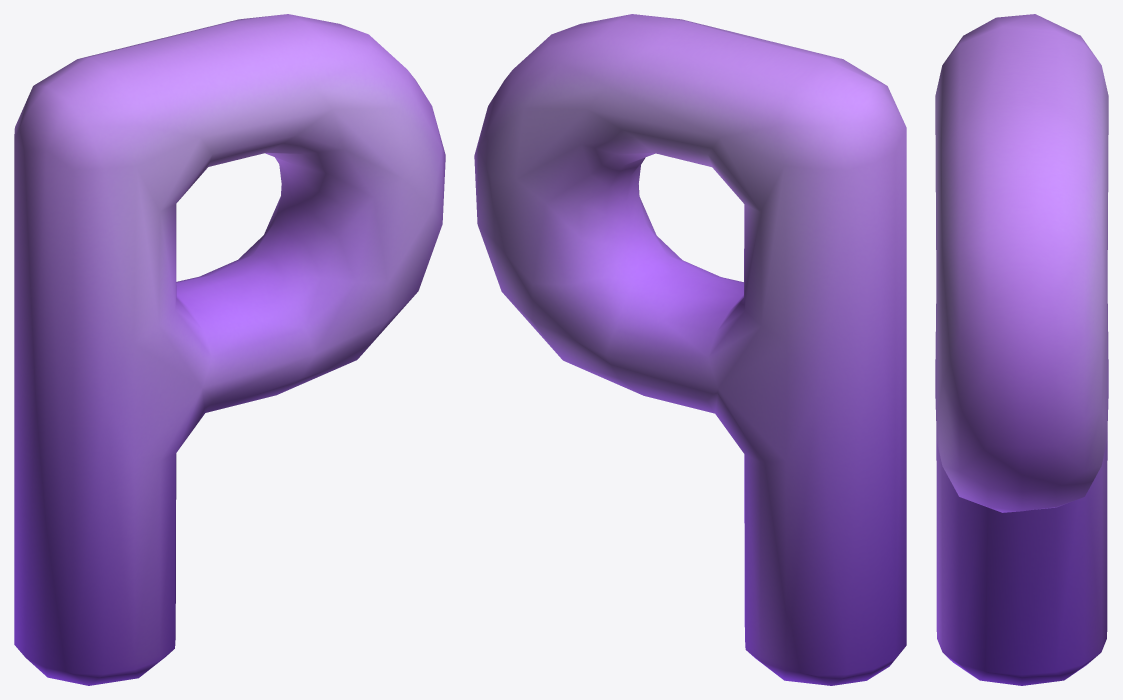
3 renders of one model, left to right at view 1: azimuth 30°, elevation 25°; view 2: azimuth 150°, elevation 25°; view 3: azimuth 270°, elevation 25°, orthographic. The views are drawn at different scales.
Parts seen in each view (by area): view 1: Processed_Mesh0_Geometry; view 2: Processed_Mesh0_Geometry; view 3: Processed_Mesh0_Geometry.
Boxes of the visible parts, <box> form: Processed_Mesh0_Geometry: <box>14,14,445,685</box>; Processed_Mesh0_Geometry: <box>474,14,906,685</box>; Processed_Mesh0_Geometry: <box>935,14,1108,685</box>.
Size of what is drawn, in the model's own units: 0.0575 by 0.0805 by 0.0197.
1 material, 1 textured.
